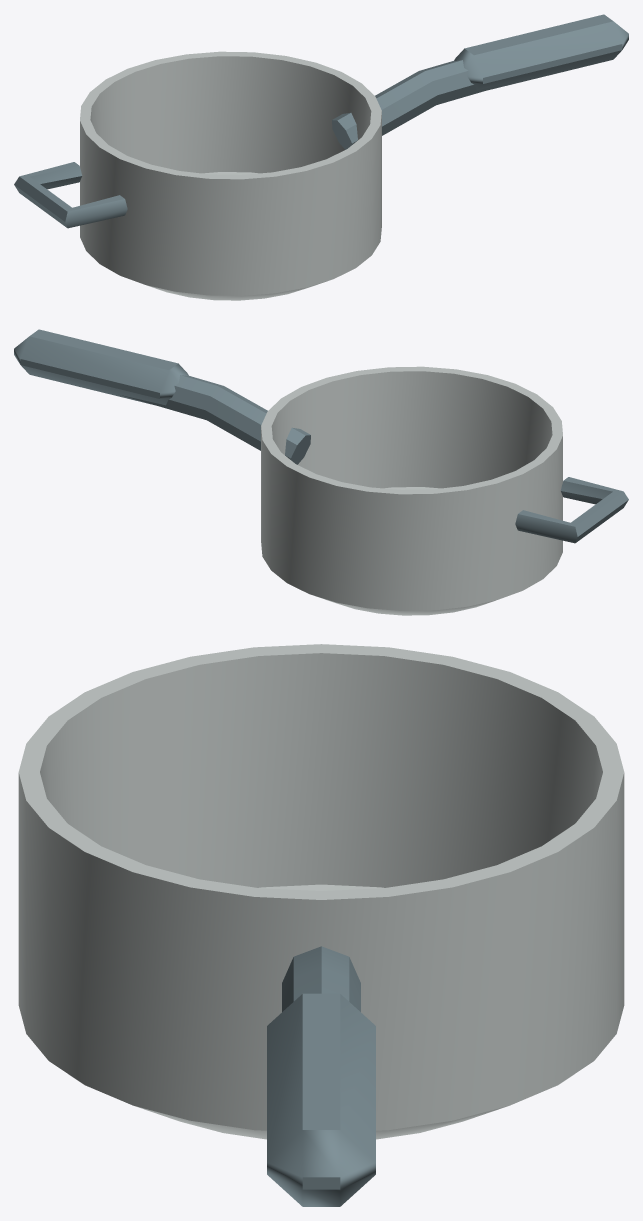
File: saucepan.glb
3 views of the same model, one above another, from view 1: azimuth 30°, elevation 25°; view 2: azimuth 150°, elevation 25°; view 3: azimuth 270°, elevation 25° (orthographic). The views are drawn at different scales.
Parts seen in each view (by area): view 1: pan_basin, insulated_grip, handle_shank, helper_handle; view 2: pan_basin, insulated_grip, handle_shank, helper_handle; view 3: pan_basin, insulated_grip, handle_shank.
Boxes of the visible parts, x1=… form: pan_basin: x1=80, y1=51, x2=381, y2=300; insulated_grip: x1=454, y1=14, x2=628, y2=90; handle_shank: x1=332, y1=60, x2=522, y2=149; helper_handle: x1=14, y1=162, x2=127, y2=228; pan_basin: x1=261, y1=366, x2=562, y2=615; insulated_grip: x1=14, y1=329, x2=188, y2=405; handle_shank: x1=120, y1=375, x2=310, y2=464; helper_handle: x1=515, y1=477, x2=628, y2=543; pan_basin: x1=18, y1=644, x2=624, y2=1139; insulated_grip: x1=267, y1=993, x2=375, y2=1206; handle_shank: x1=282, y1=946, x2=360, y2=1011.
Bounding box in the file's own units: 0.4458 × 0.104 × 0.2.
